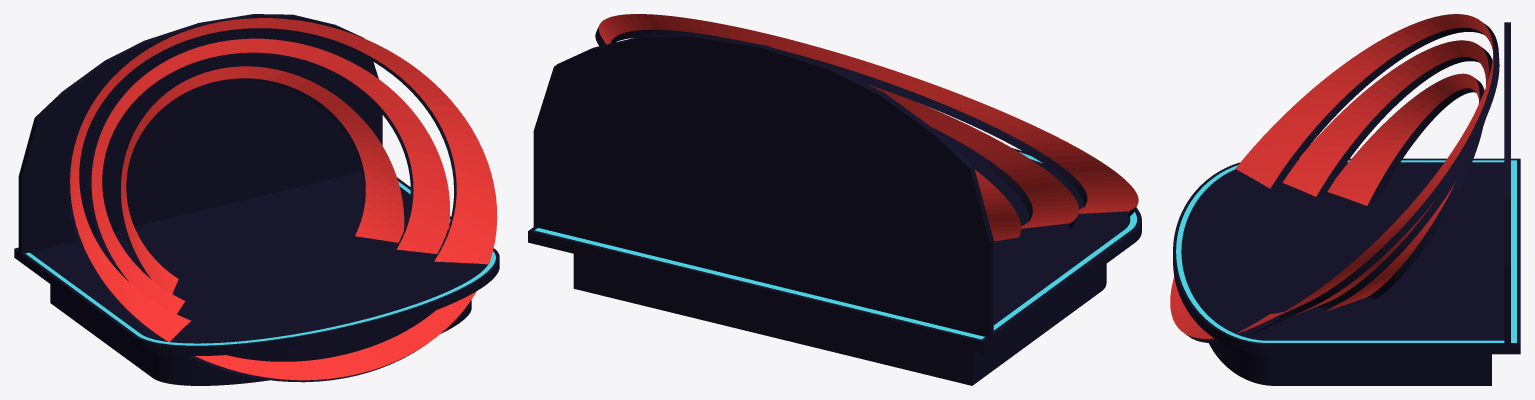
Rendered from stage2.glb.
3 renders of one model, left to right at view 1: azimuth 30°, elevation 25°; view 2: azimuth 150°, elevation 25°; view 3: azimuth 270°, elevation 25°, orthographic. The views are drawn at different scales.
Parts seen in each view (by area): view 1: Cylinder, Cylinder.001, Cube.001; view 2: Cube.001, Cylinder, Cylinder.001; view 3: Cylinder, Cylinder.001, Cube.001.
Boxes of the visible parts, left/top/right/bottom form: Cylinder: left=14, top=171, right=499, bottom=385; Cylinder.001: left=67, top=18, right=497, bottom=382; Cube.001: left=18, top=14, right=382, bottom=258; Cube.001: left=533, top=34, right=993, bottom=342; Cylinder: left=528, top=148, right=1141, bottom=385; Cylinder.001: left=595, top=14, right=1138, bottom=241; Cylinder: left=1173, top=158, right=1520, bottom=385; Cylinder.001: left=1170, top=14, right=1499, bottom=342; Cube.001: left=1504, top=22, right=1510, bottom=348.
Bounding box in the file's own units: 22.06 × 12.94 × 15.86.
